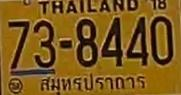0: (150, 15, 172, 64)
3: (33, 19, 55, 68)
4: (101, 16, 122, 66), (126, 16, 147, 65)
7: (7, 20, 29, 68)
8: (76, 18, 97, 66)
SPK: (37, 72, 148, 94)
